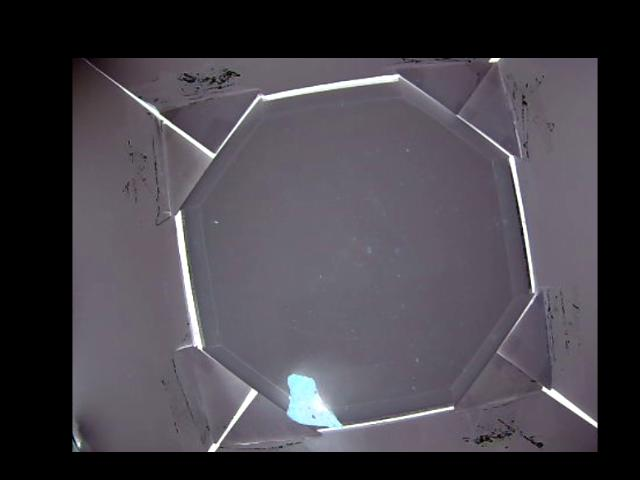Brisk: (284, 370, 342, 428)
